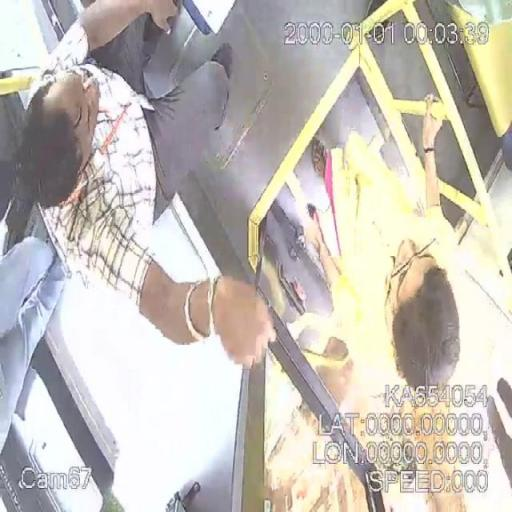persona: (1, 2, 280, 376), (309, 91, 468, 392)
